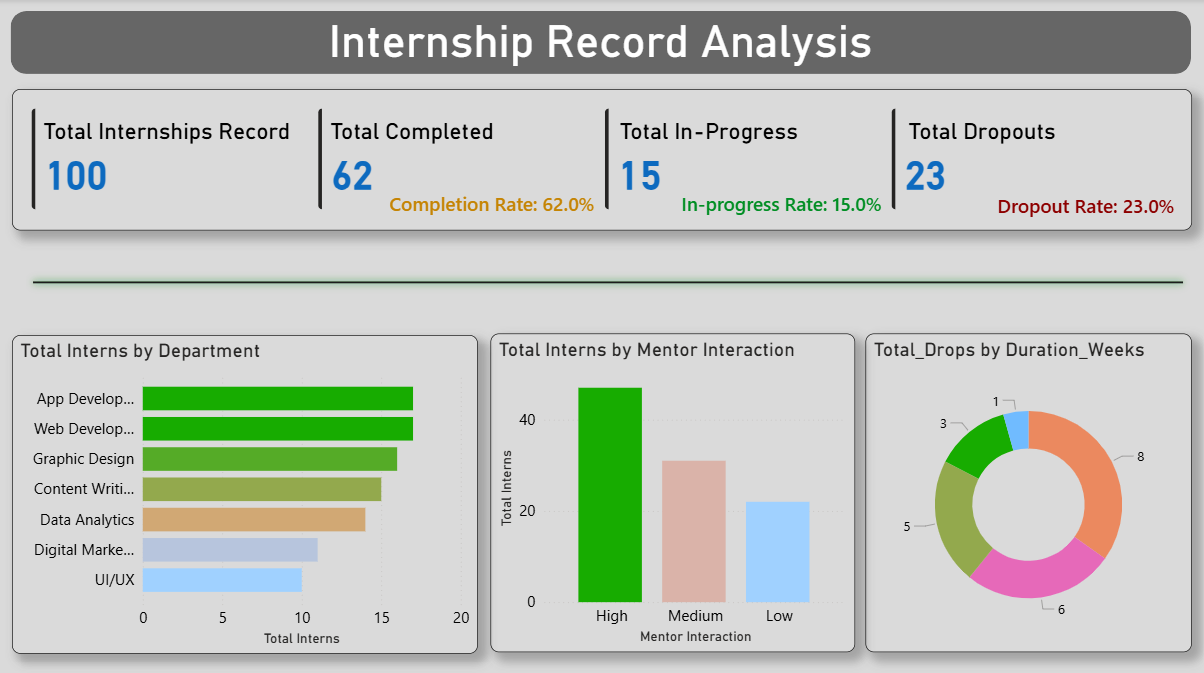

The dashboard page shown, as its layout file describes it:
{"tool":"powerbi","page":{"name":"Page 1","canvas":[1280,720],"ordinal":0},"visuals":[{"type":"shape","box":[14.3,12.7,1251.8,66.8],"z":0},{"type":"textbox","box":[14.3,11.1,1251.8,87.5],"z":1000},{"type":"cardVisual","fields":{"Data":["internship_dataset.Total_Interns","internship_dataset.Total_Completed","internship_dataset.Total_in_prog","internship_dataset.Total_Drops"]},"box":[16.2,95.2,1251.6,149.9],"z":2000},{"type":"textbox","box":[30.4,121.5,299.7,50.6],"z":3000},{"type":"textbox","box":[330.1,121.5,224.8,50.6],"z":4000},{"type":"textbox","box":[640,121.5,237,50.6],"z":5000},{"type":"textbox","box":[945.8,121.5,196.5,50.6],"z":6000},{"type":"shape","box":[411.1,184.3,228.9,64.8],"z":7000},{"type":"shape","box":[717,184.3,228.9,64.8],"z":8000},{"type":"shape","box":[1041,186.3,228.9,64.8],"z":9000},{"type":"clusteredBarChart","fields":{"Category":["internship_dataset.Department"],"Y":["internship_dataset.Total_Interns"]},"box":[16.2,356.5,494.2,338.2],"z":10000},{"type":"columnChart","fields":{"Category":["internship_dataset.Mentor_Interaction"],"Y":["internship_dataset.Total_Interns"]},"box":[522.5,354.4,386.8,338.2],"z":11000},{"type":"donutChart","fields":{"Y":["internship_dataset.Total_Drops"],"Category":["internship_dataset.Duration_Weeks"]},"box":[921.5,354.4,346.3,338.2],"z":12000},{"type":"shape","box":[30.4,241,1235.4,117.5],"z":12001}]}

Visuals, with their boxes in screenshot pixels (x1, y1, x2, y2), scaled from the page's 1280x720 canvas onto the 1204x673 screenshot:
shape: select_region(13, 12, 1191, 74)
textbox: select_region(13, 10, 1191, 92)
cardVisual - internship_dataset.Total_Interns x internship_dataset.Total_Completed: select_region(15, 89, 1193, 229)
textbox: select_region(29, 114, 311, 161)
textbox: select_region(311, 114, 522, 161)
textbox: select_region(602, 114, 825, 161)
textbox: select_region(890, 114, 1074, 161)
shape: select_region(387, 172, 602, 233)
shape: select_region(674, 172, 890, 233)
shape: select_region(979, 174, 1194, 235)
clusteredBarChart - internship_dataset.Department x internship_dataset.Total_Interns: select_region(15, 333, 480, 649)
columnChart - internship_dataset.Mentor_Interaction x internship_dataset.Total_Interns: select_region(491, 331, 855, 647)
donutChart - internship_dataset.Total_Drops x internship_dataset.Duration_Weeks: select_region(867, 331, 1193, 647)
shape: select_region(29, 225, 1191, 335)
